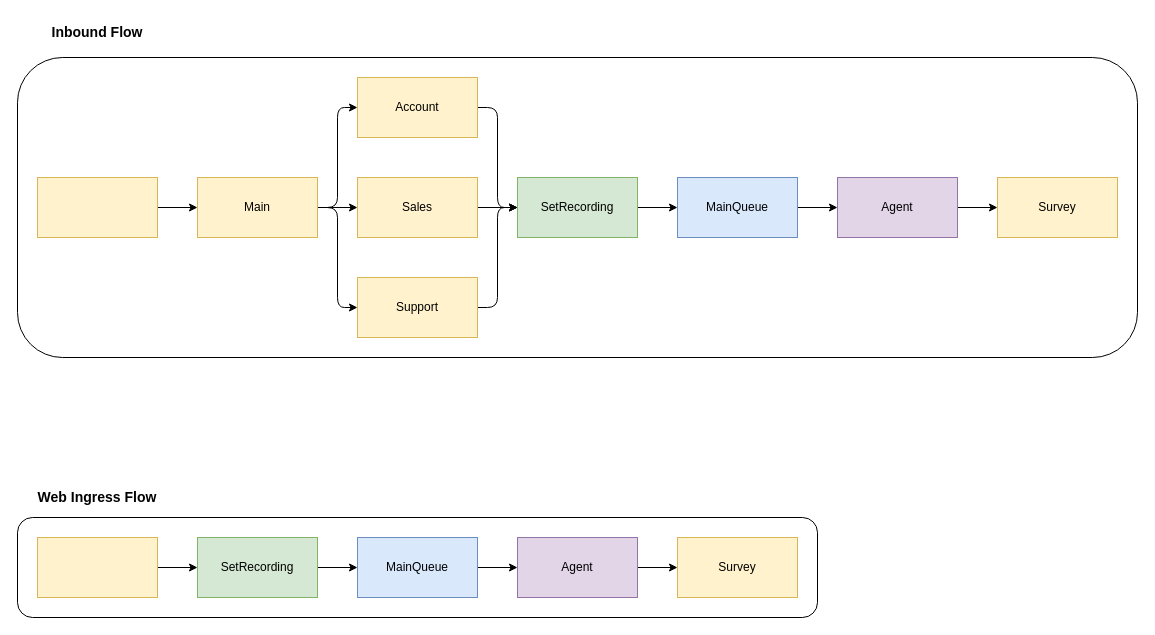
This 1155x635 diagram has some shape labels left out. Each missing label, with the box of its shape:
IntroInbound: (36, 176, 158, 238)
WebIngress: (36, 536, 158, 598)
